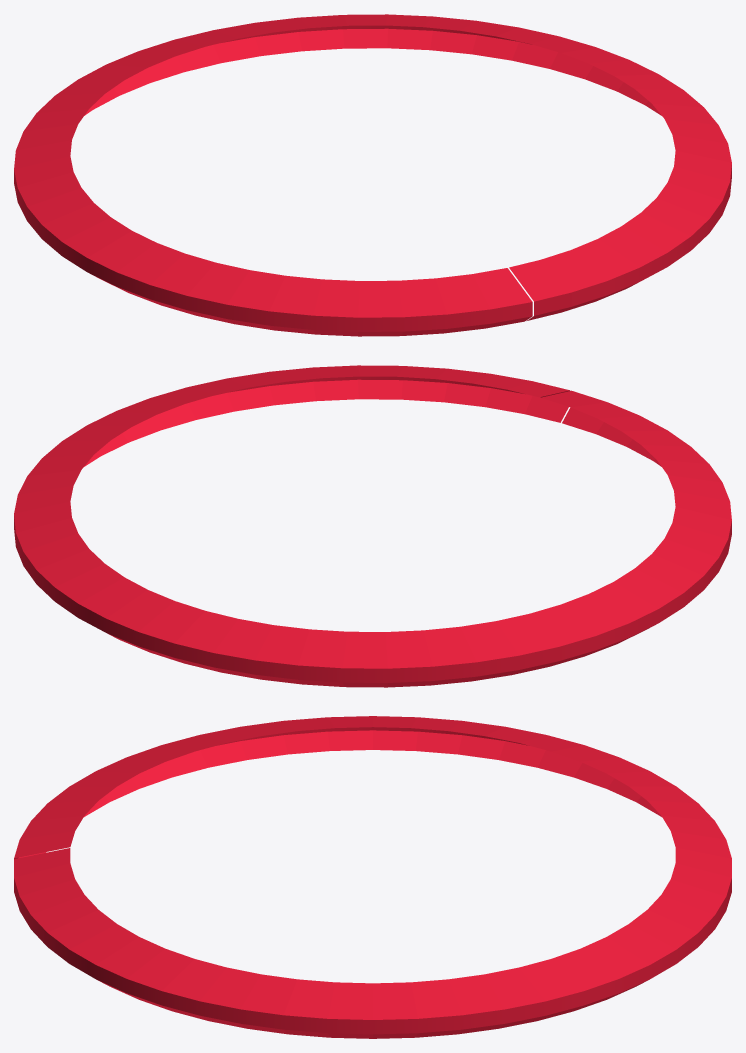
The model's file is footMarker.fbx.
3 views of the same model, one above another, from view 1: azimuth 30°, elevation 25°; view 2: azimuth 150°, elevation 25°; view 3: azimuth 270°, elevation 25° (orthographic).
Parts seen in each view (by area): view 1: polySurface3; view 2: polySurface3; view 3: polySurface3.
Boxes of the visible parts, box(x1,y1,x2,y2) form: polySurface3: box(14, 14, 731, 336); polySurface3: box(14, 365, 731, 687); polySurface3: box(14, 716, 731, 1038).
Bounding box in the file's own units: 39.05 × 2.35 × 38.98.
Materials: 1 (1 with a texture image).
